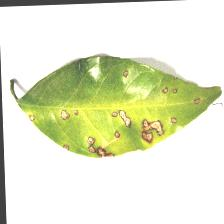canker: (27, 94, 173, 162)
